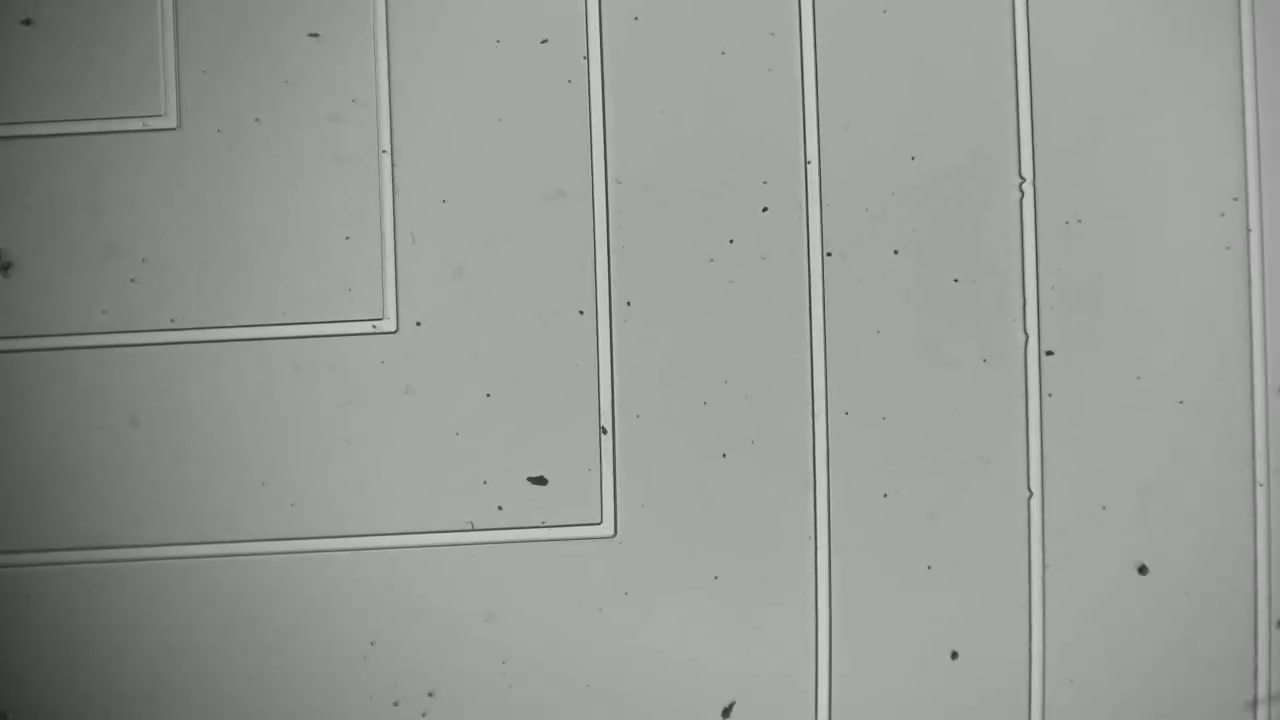edge_bite: (1014, 326, 1051, 360), (1019, 481, 1053, 512), (1012, 181, 1042, 212)
stains_enbedded: (592, 416, 624, 442)
